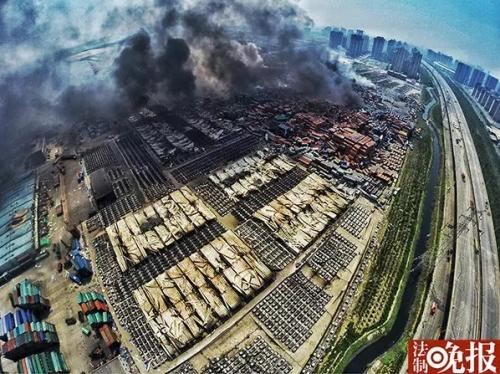smoke: (8, 5, 346, 118)
